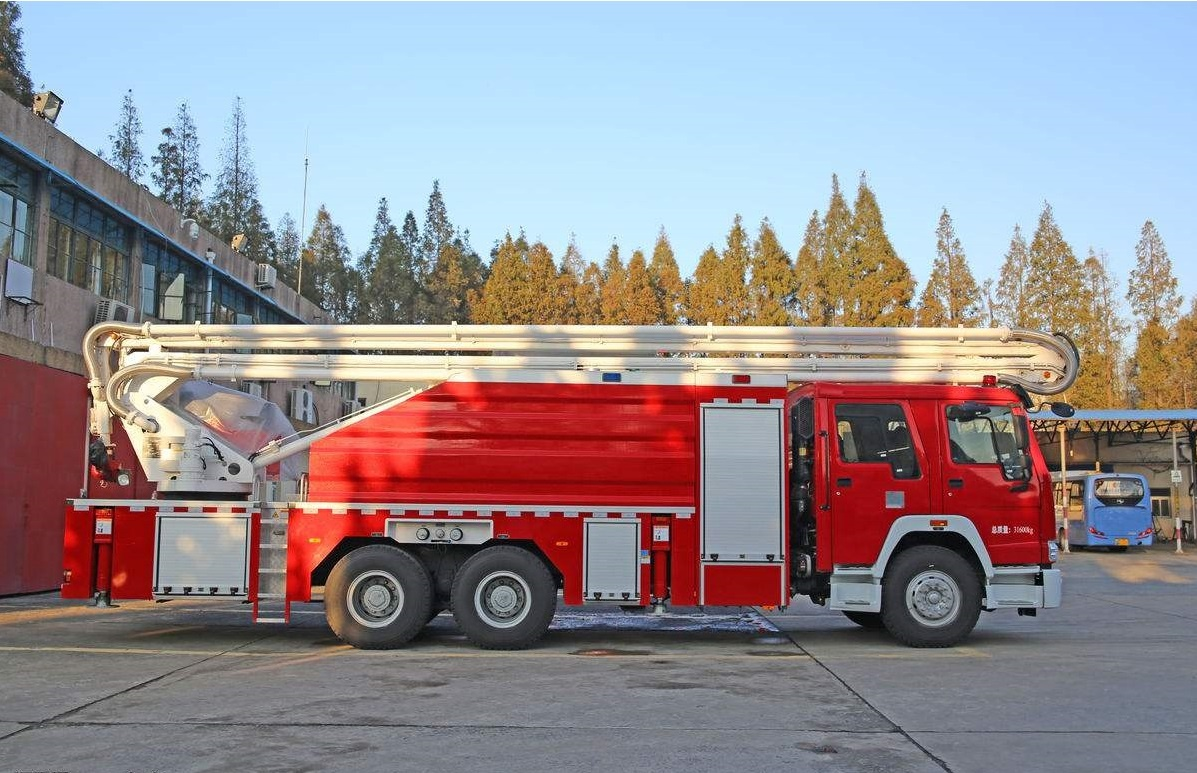fire engine: (54, 291, 1077, 661)
